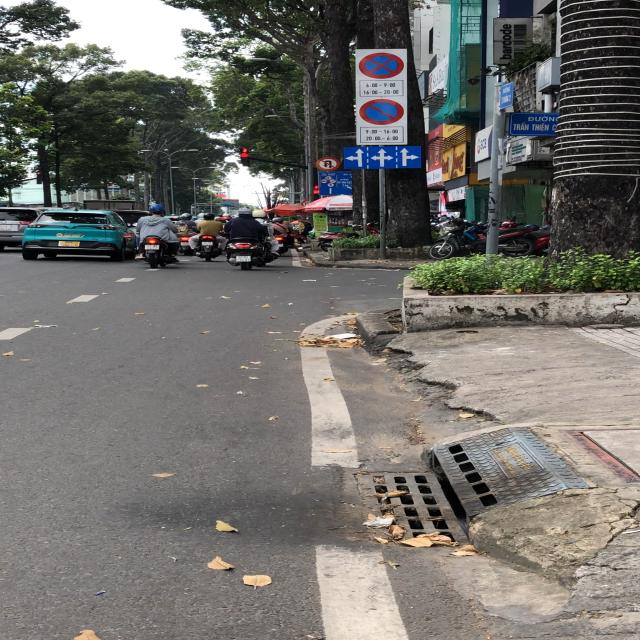Bien bao cam do xe: (359, 97, 405, 126)
Bien bao cam dung xe va do xe: (357, 52, 411, 80)
Bien bao cam quay dau xe: (315, 156, 341, 171)
